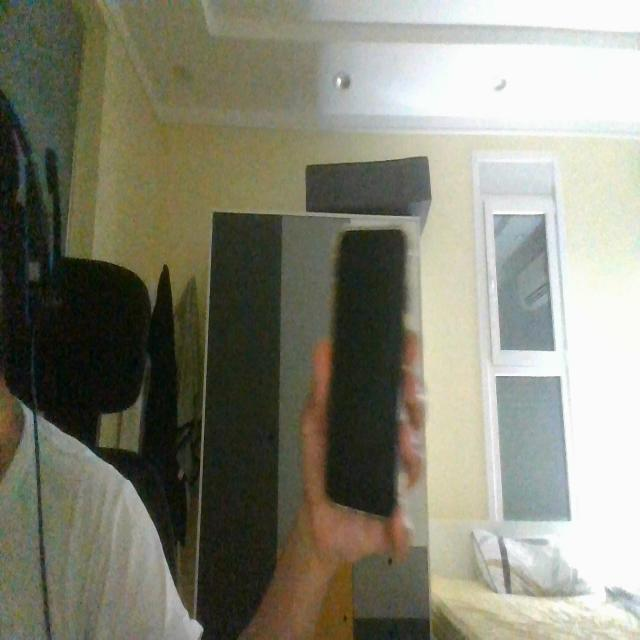Phone: (320, 226, 410, 525)
